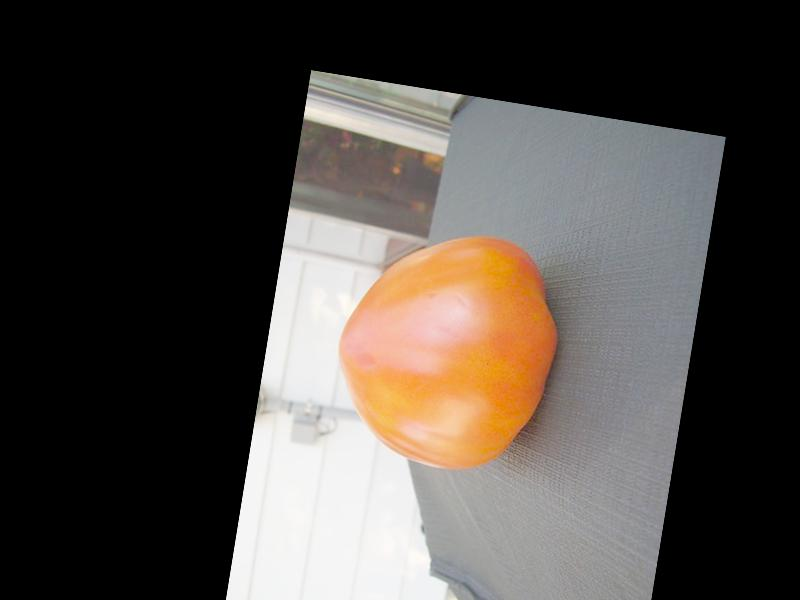Tomato: (320, 215, 569, 482)
